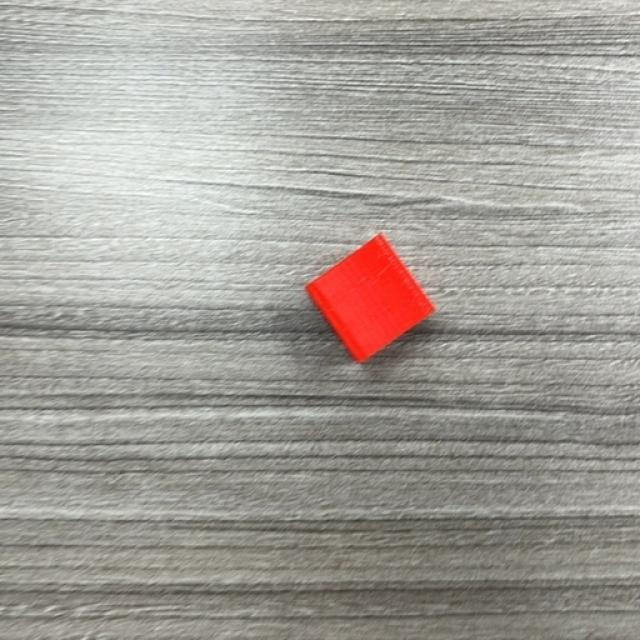Rojo: (305, 235, 438, 365)
